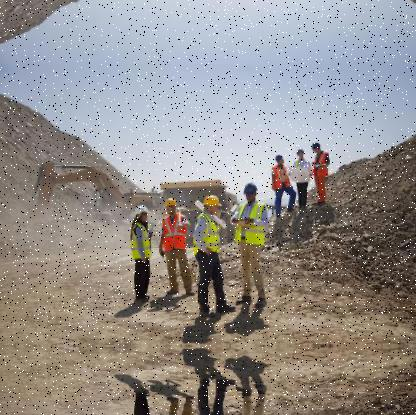helmet: (201, 191, 223, 215), (240, 179, 260, 203), (162, 194, 181, 214), (132, 203, 151, 221), (274, 153, 286, 167), (312, 140, 324, 154)
